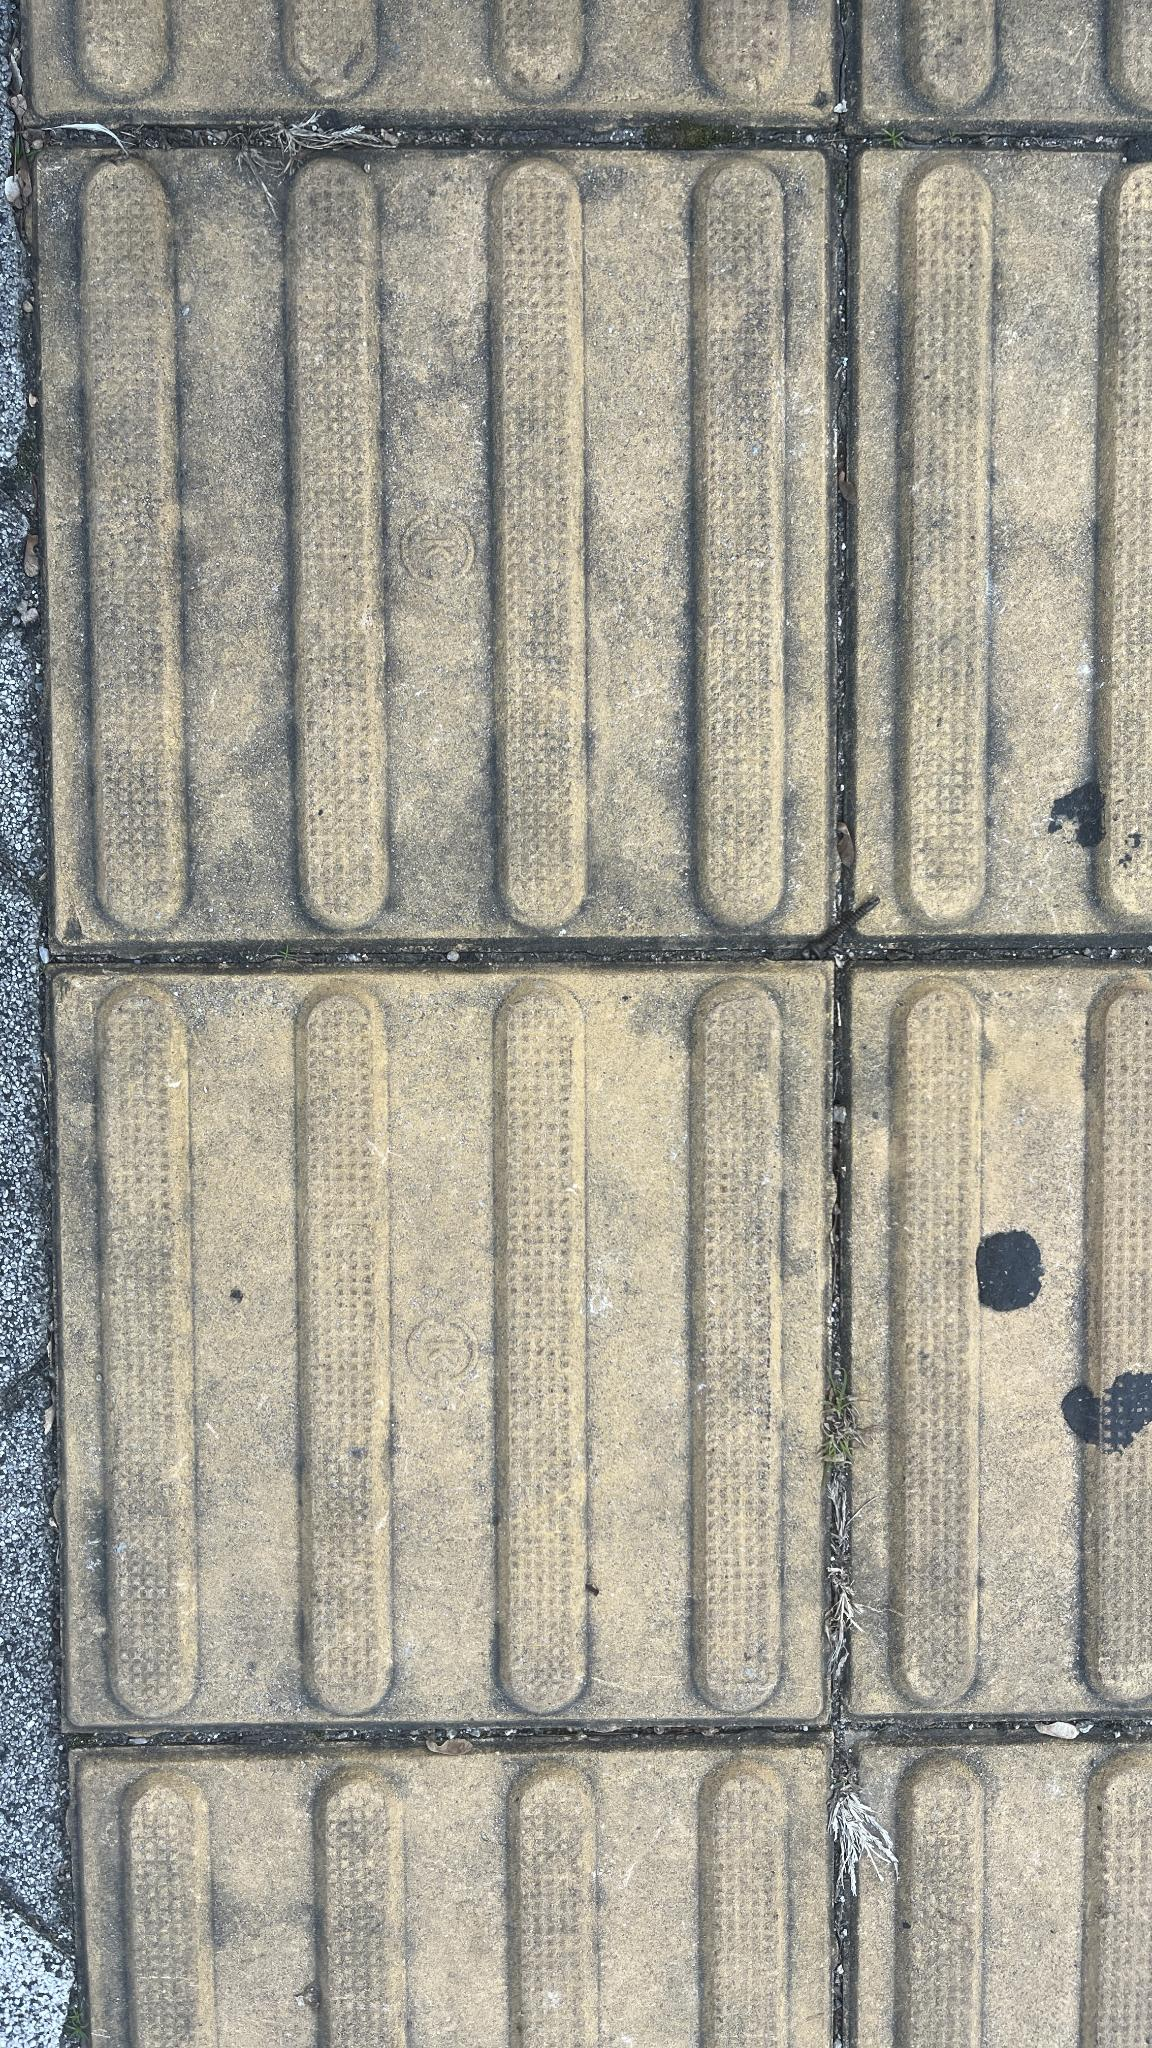Straight block normal: (48, 151, 828, 926), (66, 968, 821, 1717)
